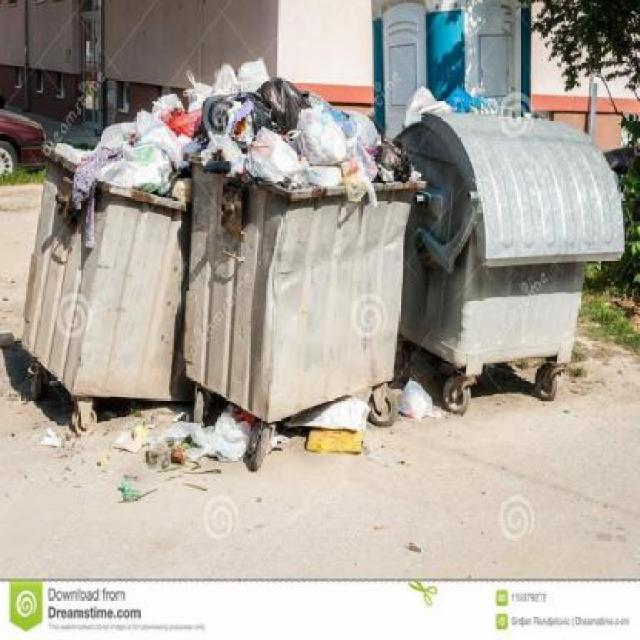garbage: (57, 53, 503, 266), (54, 372, 470, 493)
